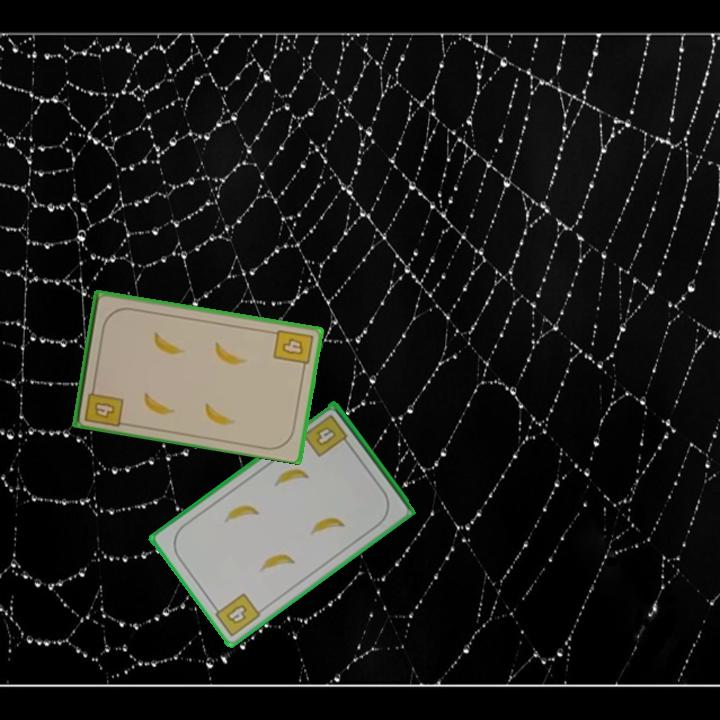4b: (209, 589, 263, 640), (300, 411, 353, 460), (81, 380, 126, 429), (270, 326, 316, 373)
